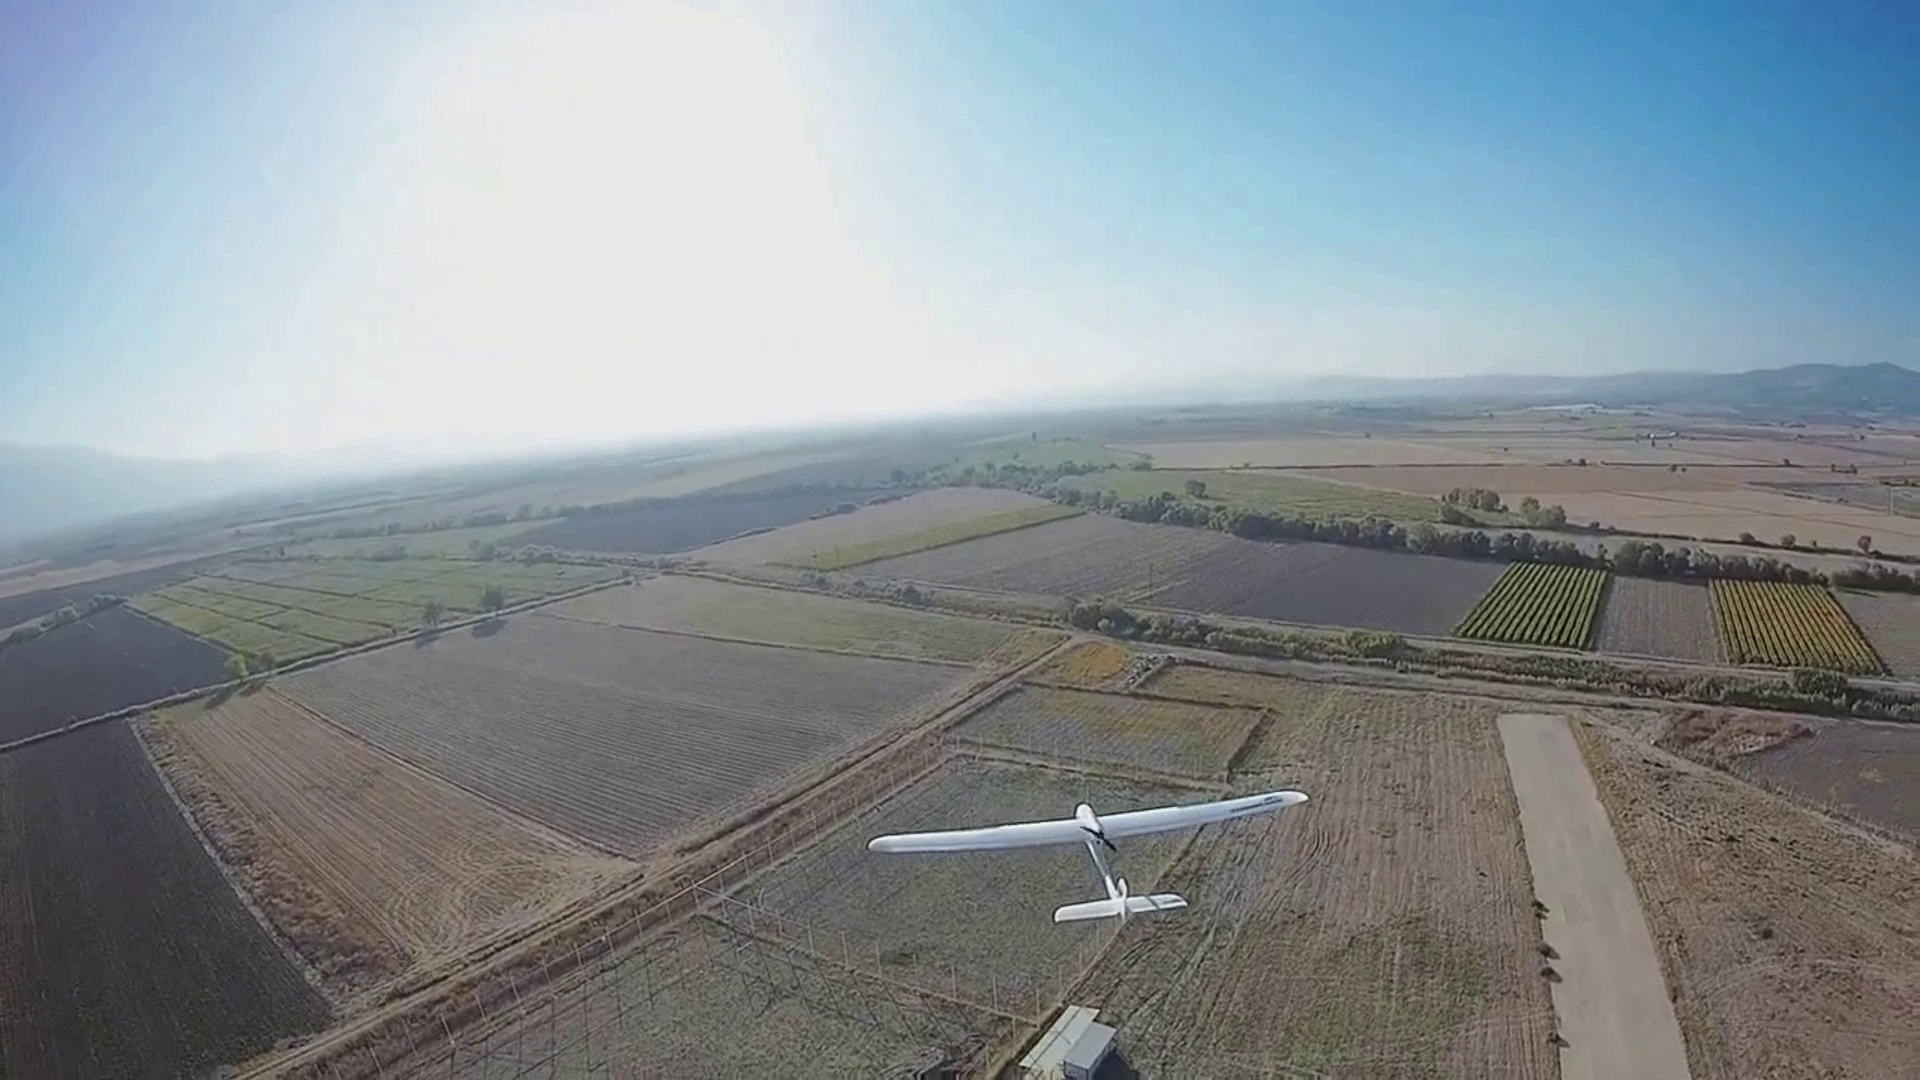airplane: (870, 787, 1309, 928)
